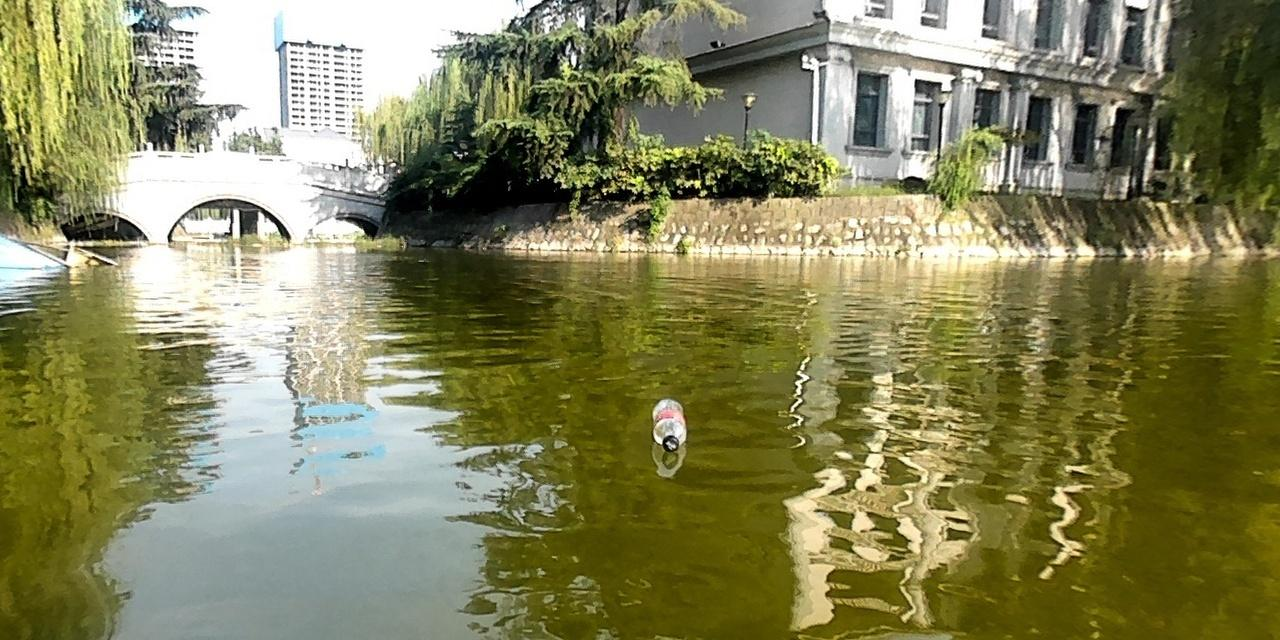bottle: (648, 397, 687, 452)
